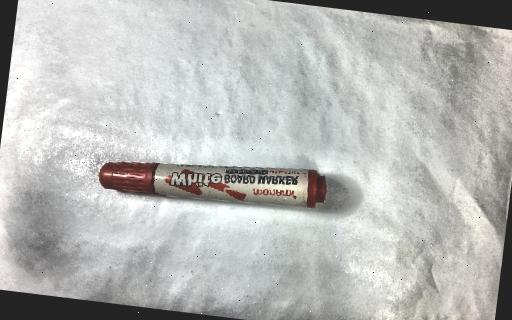marcador rojo: (98, 162, 326, 208)
